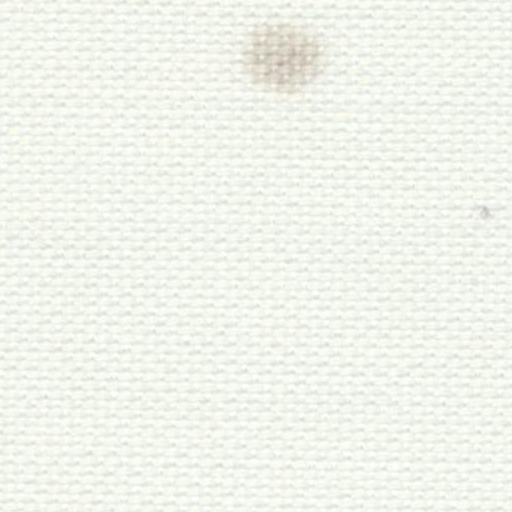WuZi: (236, 14, 338, 110), (460, 186, 496, 238)
